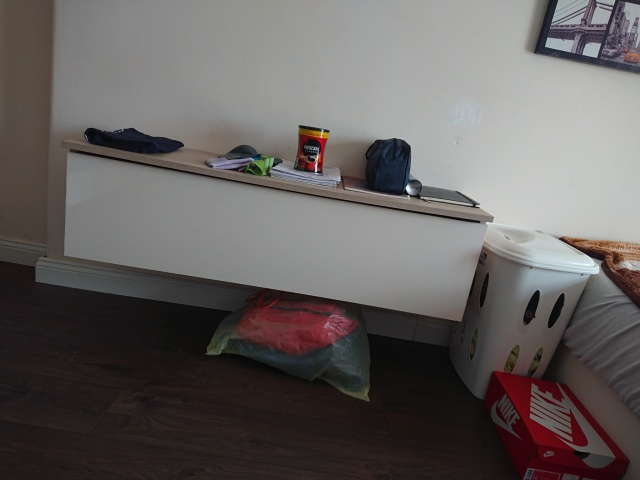Nescafe Classic 225g: (291, 122, 332, 178)
